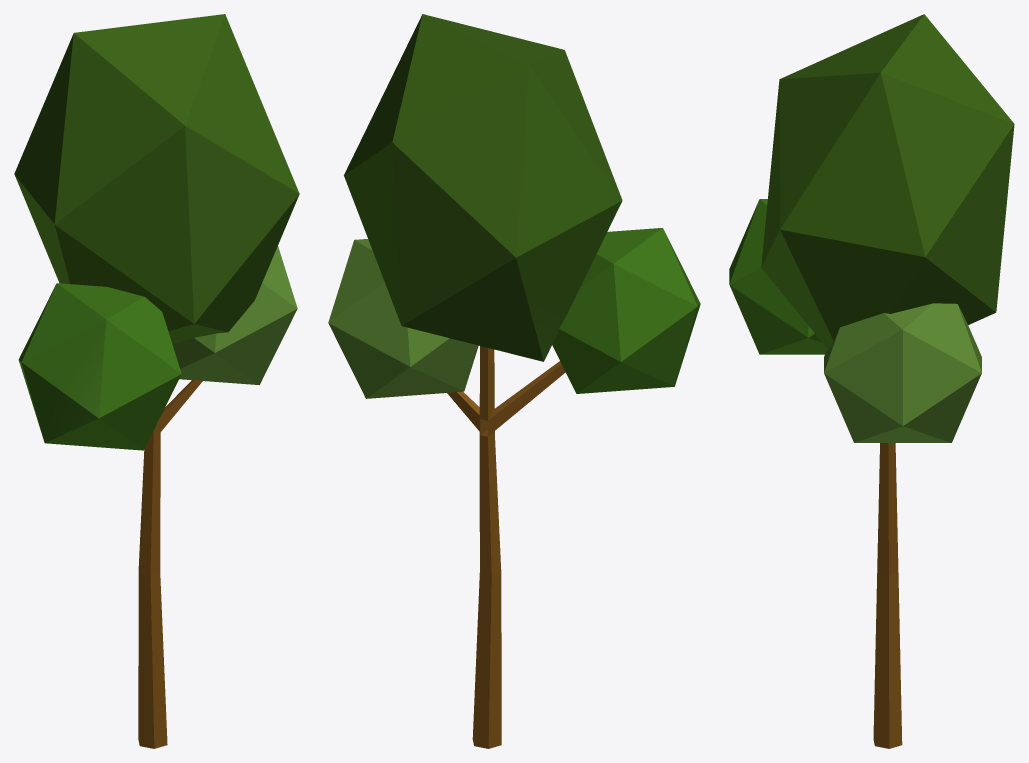
Rendered from Pine_01.fbx.
3 views of the same model, side by side, from view 1: azimuth 30°, elevation 25°; view 2: azimuth 150°, elevation 25°; view 3: azimuth 270°, elevation 25° (orthographic).
Visible parts, largest first — view 1: Icosphere.001; view 2: Icosphere.001; view 3: Icosphere.001.
Part boxes in pixels (<box>): Icosphere.001: <box>14,14,299,748</box>; Icosphere.001: <box>328,14,700,748</box>; Icosphere.001: <box>729,14,1014,748</box>.
Size of the model in its own units: 119 by 252 by 92.69.
